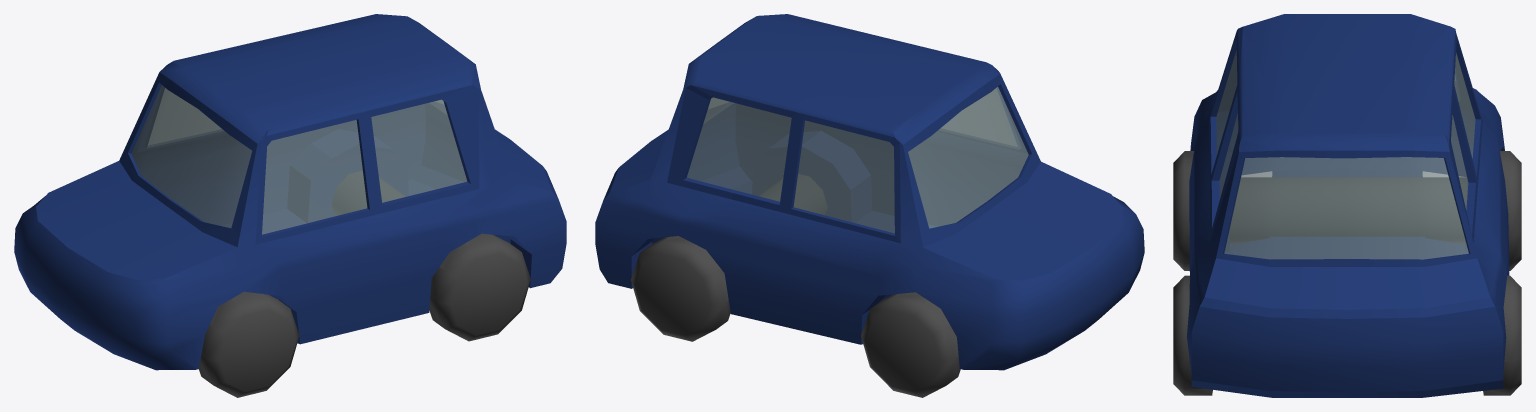
Rendered from Car_02.fbx.
3 renders of one model, left to right at view 1: azimuth 30°, elevation 25°; view 2: azimuth 150°, elevation 25°; view 3: azimuth 270°, elevation 25°, orthographic. The views are drawn at different scales.
Parts seen in each view (by area): view 1: polySurface11, polySurface9, pCylinder17, polySurface14, pCylinder16, polySurface8, polySurface10; view 2: polySurface11, polySurface9, pCylinder17, polySurface10, pCylinder16, polySurface12, polySurface14; view 3: polySurface11, polySurface13, pCylinder16, pCylinder17, polySurface10, polySurface14, polySurface12, polySurface8.
Boxes of the visible parts, <box> form: polySurface11: <box>14,14,566,370</box>; polySurface9: <box>131,85,252,227</box>; pCylinder17: <box>332,171,530,341</box>; polySurface14: <box>262,120,367,234</box>; pCylinder16: <box>198,291,299,397</box>; polySurface8: <box>371,99,467,202</box>; polySurface10: <box>147,88,223,147</box>; polySurface11: <box>595,14,1144,370</box>; polySurface9: <box>908,87,1028,228</box>; pCylinder17: <box>631,174,827,341</box>; polySurface10: <box>793,120,894,233</box>; pCylinder16: <box>861,292,960,397</box>; polySurface12: <box>687,97,791,201</box>; polySurface14: <box>939,88,1017,148</box>; polySurface11: <box>1186,14,1509,397</box>; polySurface13: <box>1224,157,1468,259</box>; pCylinder16: <box>1173,151,1521,270</box>; pCylinder17: <box>1173,275,1521,395</box>; polySurface10: <box>1454,52,1475,158</box>; polySurface14: <box>1216,50,1237,155</box>; polySurface12: <box>1451,115,1468,209</box>; polySurface8: <box>1219,113,1238,199</box>.
Size of the model in its own units: 26.68 by 13.35 by 15.72.
